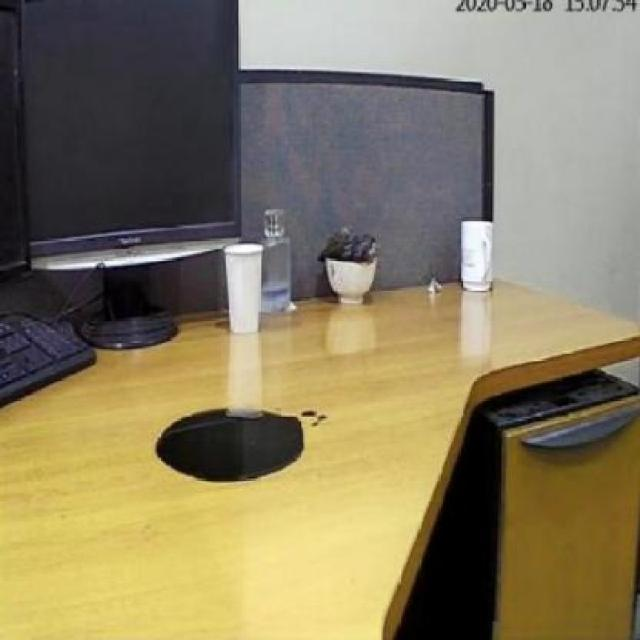spillage: (155, 404, 327, 485)
